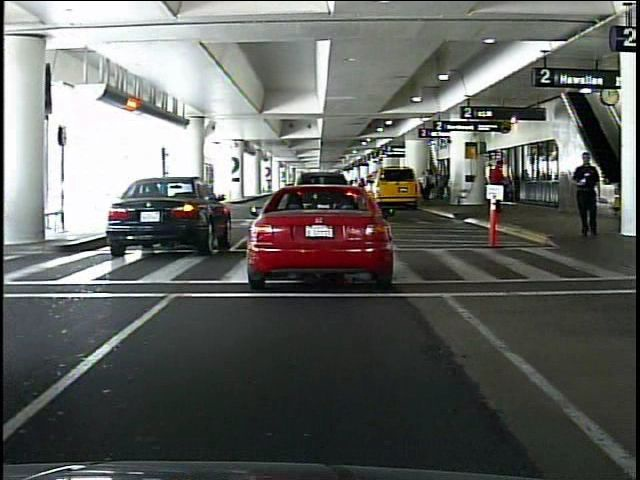person: (573, 151, 603, 240), (485, 159, 508, 215), (418, 165, 431, 202)
